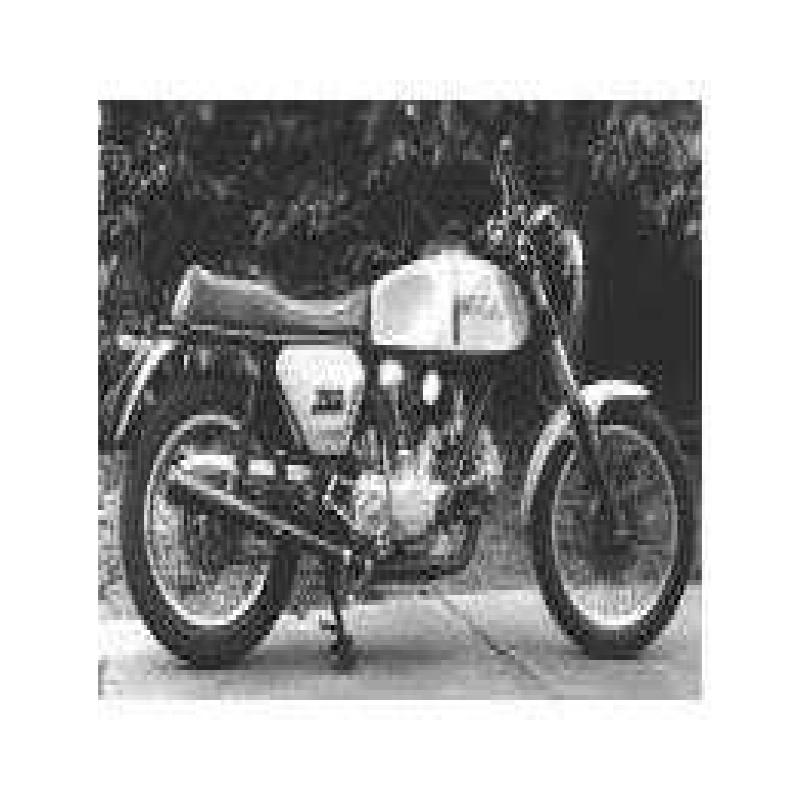bike: (145, 192, 701, 677)
